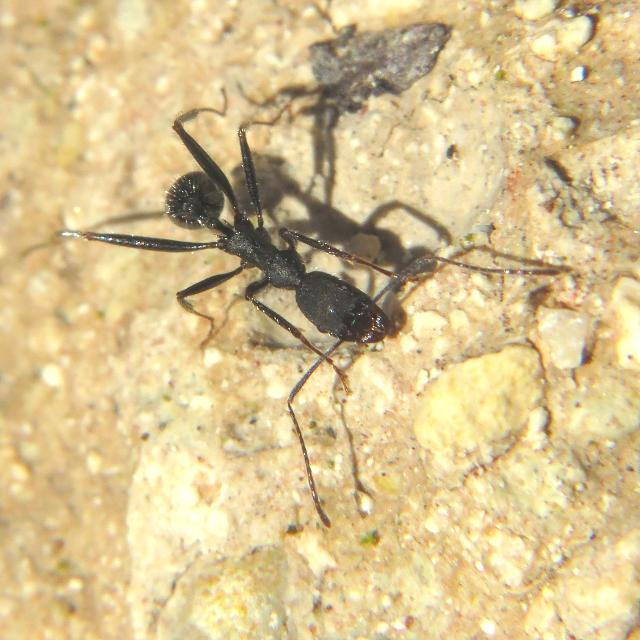Apheanogaster: (122, 130, 432, 388)
